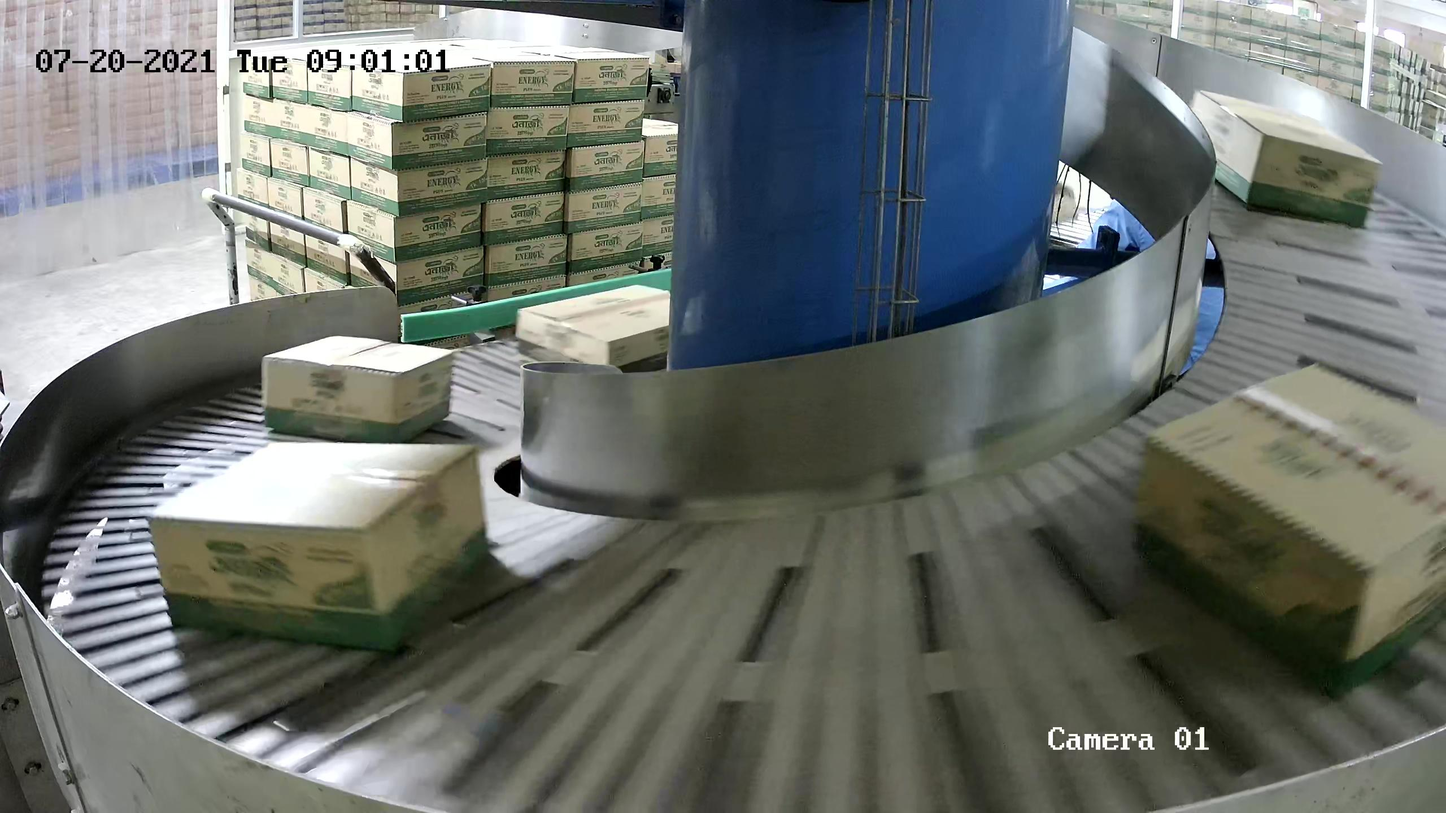Box: (1131, 359, 1446, 704), (146, 439, 492, 655), (1188, 88, 1384, 229), (260, 334, 452, 442), (514, 283, 670, 373)
